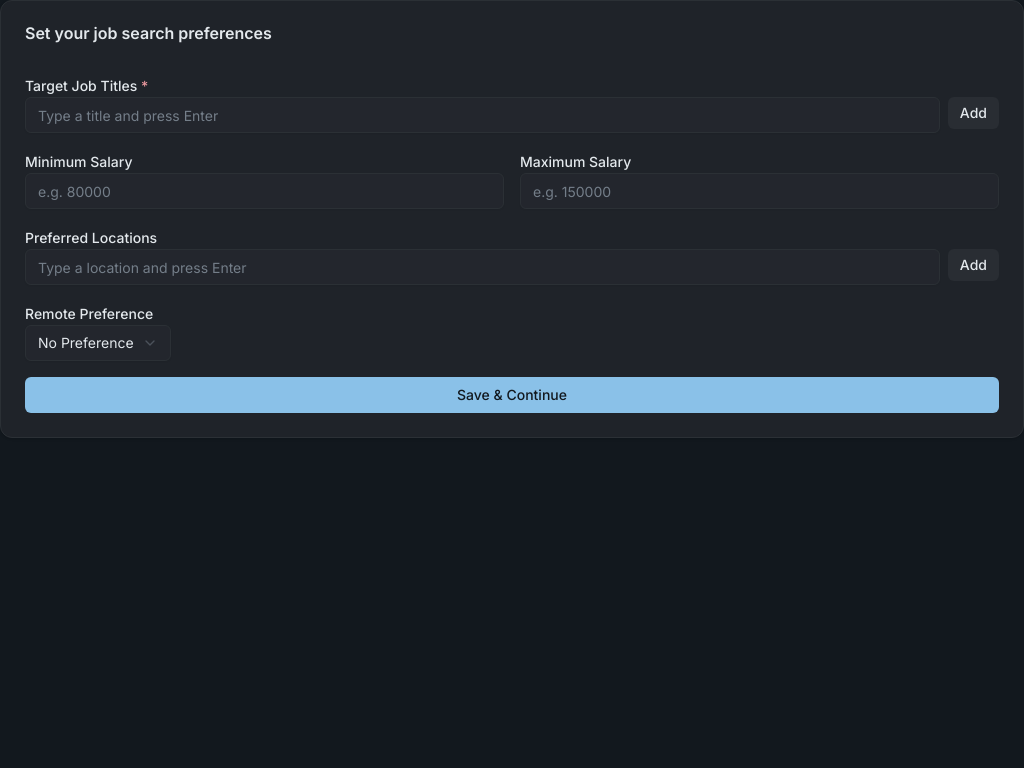
Test: PreferencesStep › [P1] should show network error on fetch failure
The image size is (1024, 768).
Type "Engineer" into the field labelled "Target Job Titles *" at coordinates (482, 115), box [25,97,940,133]
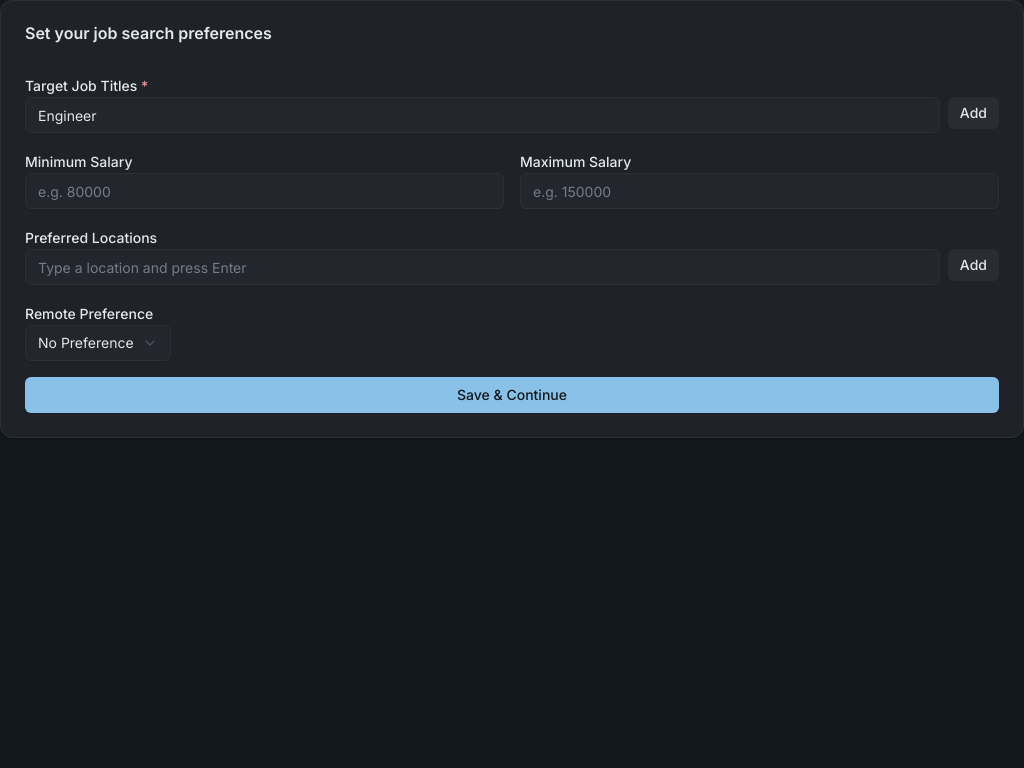
Press Enter in the field labelled "Target Job Titles *", box [25,97,940,133]
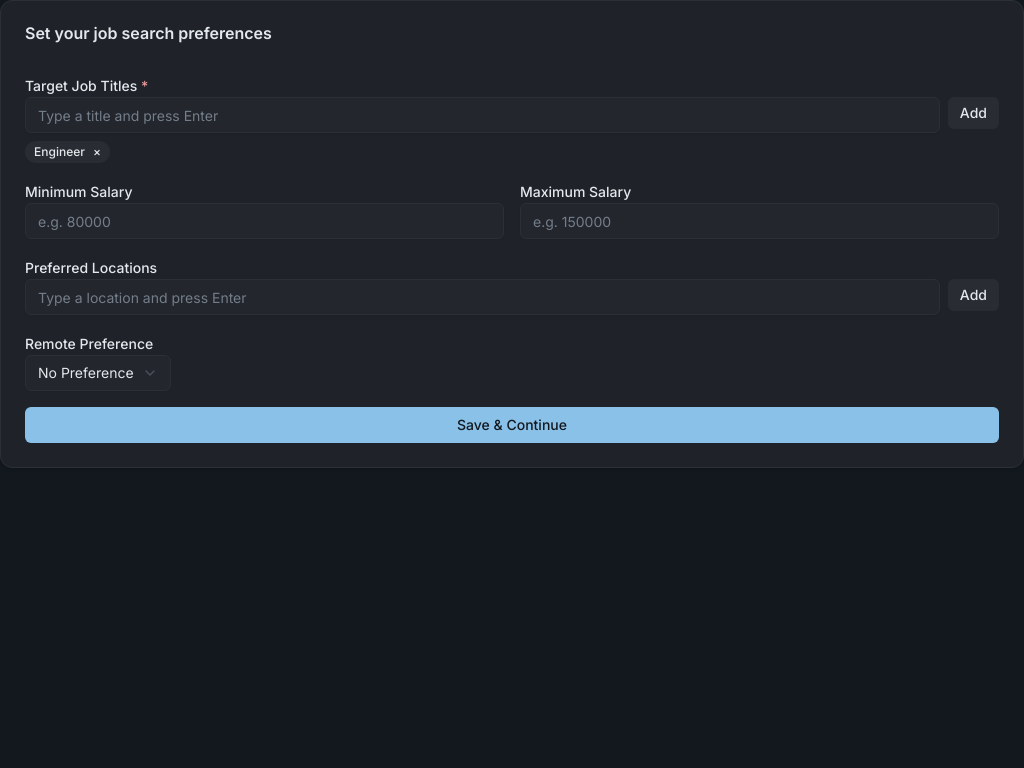
Click the button "Save & Continue" at coordinates (512, 425), box [25,407,999,443]
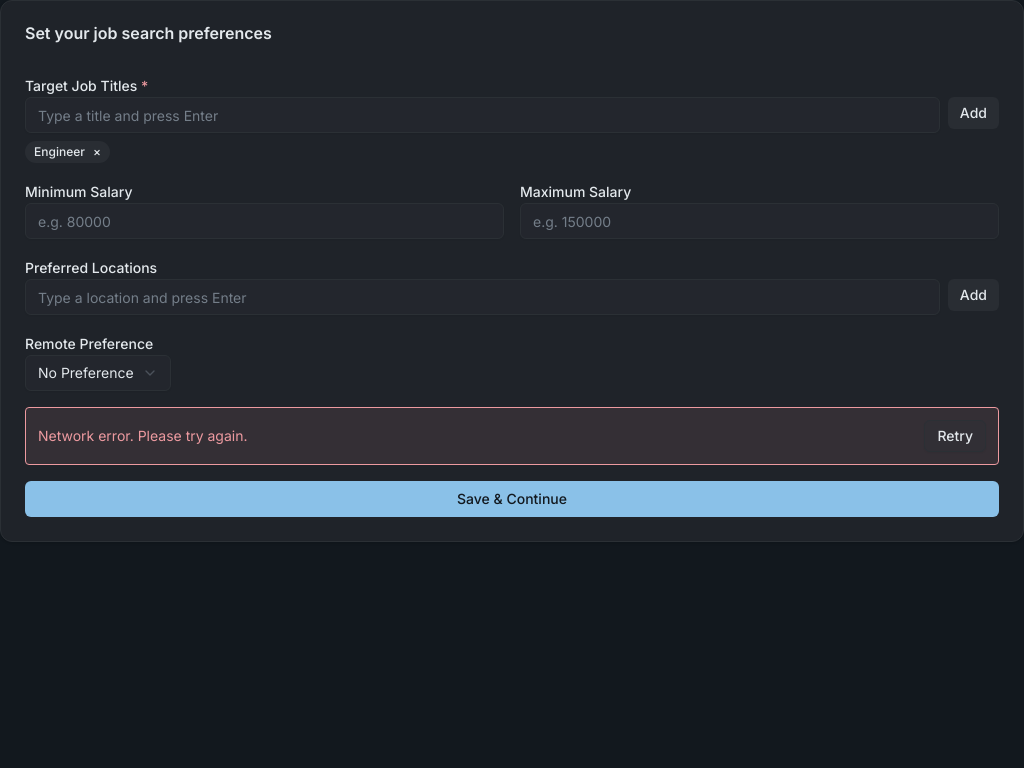
Expected: the text "Network error. Please try again." is shown, [38,426,248,446]
